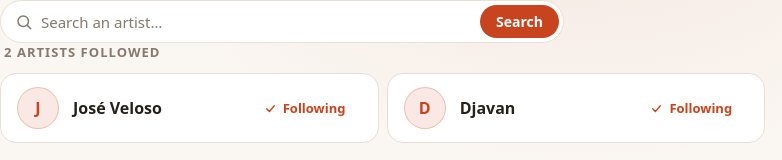
Scenario: filters the followed artists while typing, ignoring accents
Check: the text "Djavan" is shown, box [460,97,515,119]
Step 1. Type "jose" into the field with placeholder "Search an artist…" → (257, 22), box [41,6,472,38]
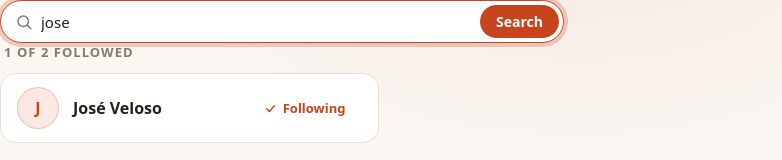
Check: the text "José Veloso" is shown, box [73,97,162,119]
Check: the link "Djavan" is gone
Check: the text "1 of 2 followed" is shown, box [4,43,134,61]
